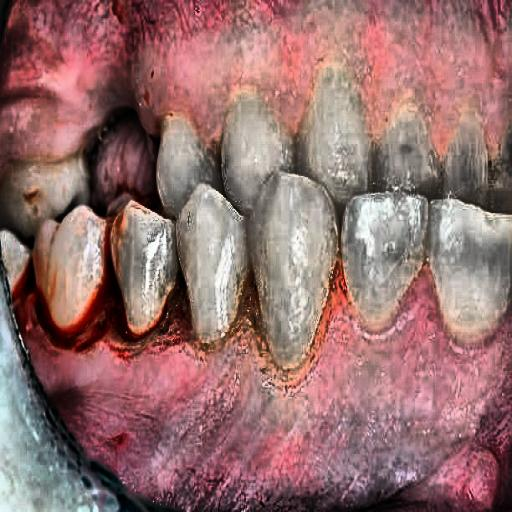Gingivitis: (13, 266, 364, 471)
